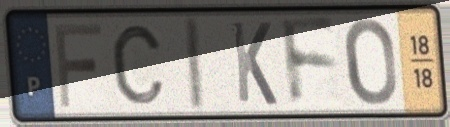C: (108, 22, 168, 107)
F: (277, 15, 341, 111), (51, 20, 105, 110)
I: (185, 12, 209, 115)
K: (229, 18, 280, 109)
O: (342, 15, 399, 108)
